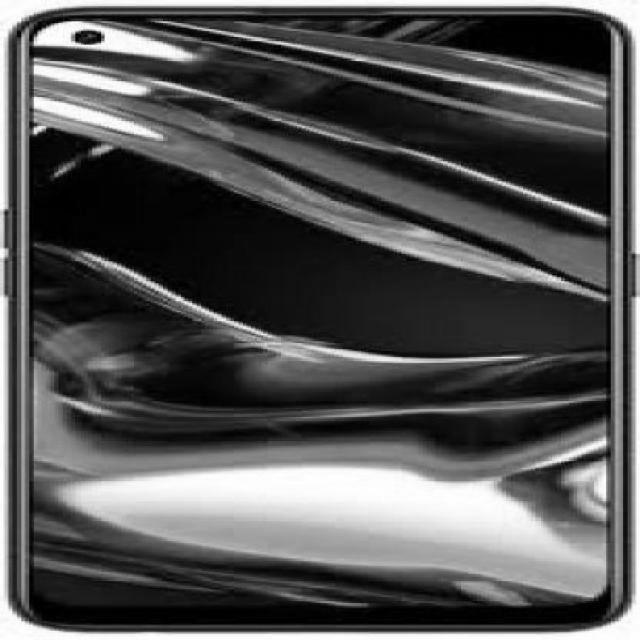fake: (4, 2, 632, 636)
